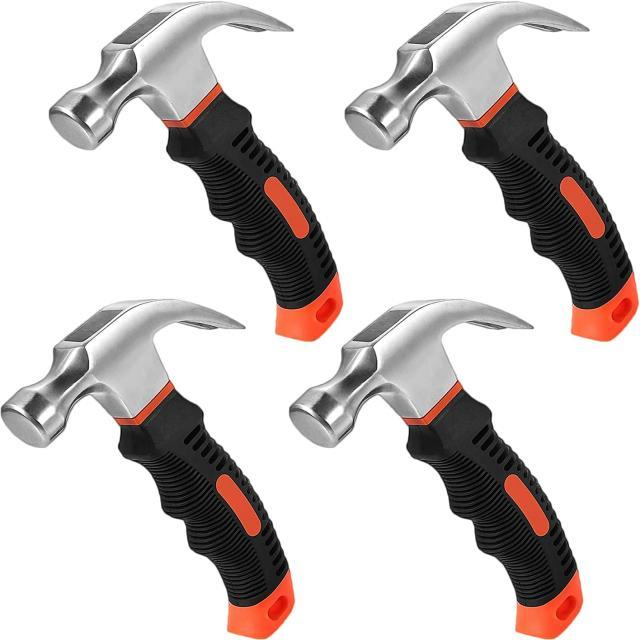hammer: (0, 288, 312, 639), (283, 294, 592, 640), (43, 0, 351, 345), (343, 0, 640, 347)
